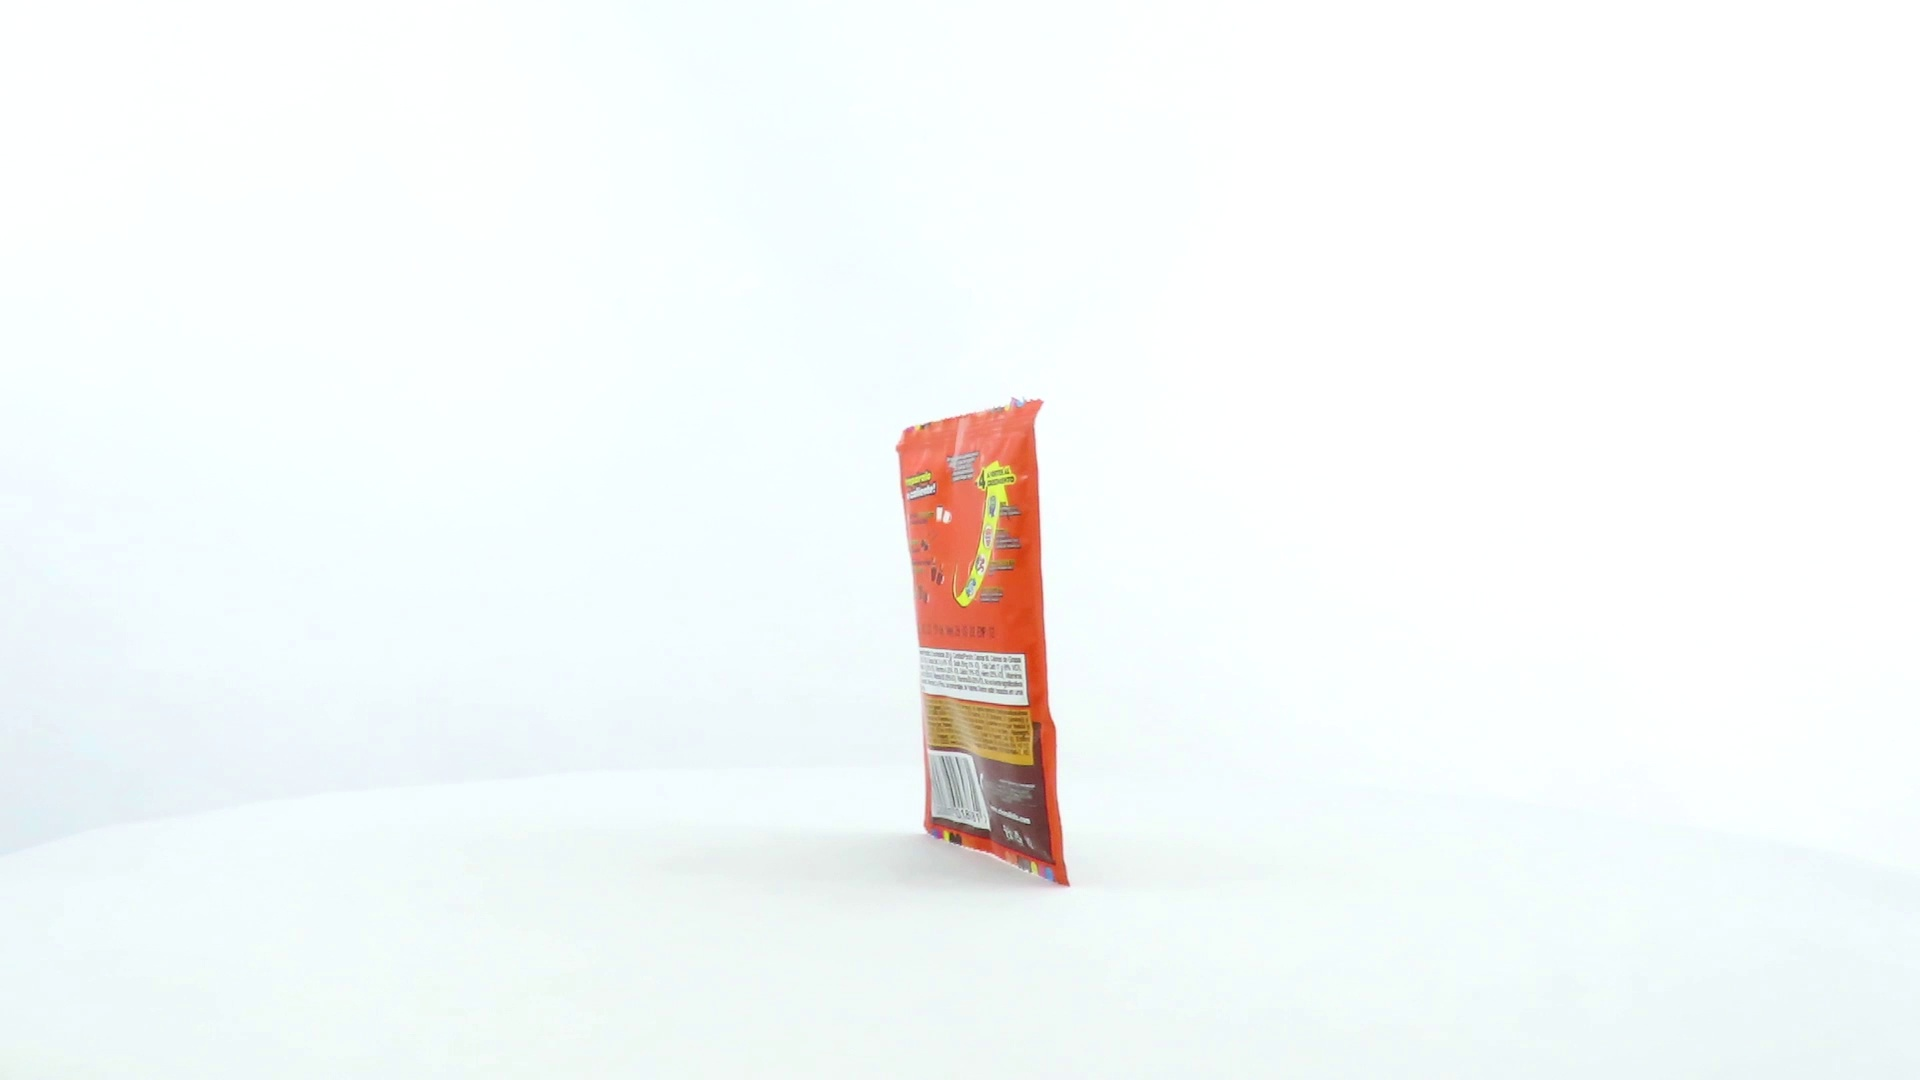COL0170103SOB02000: (891, 392, 1076, 893)
